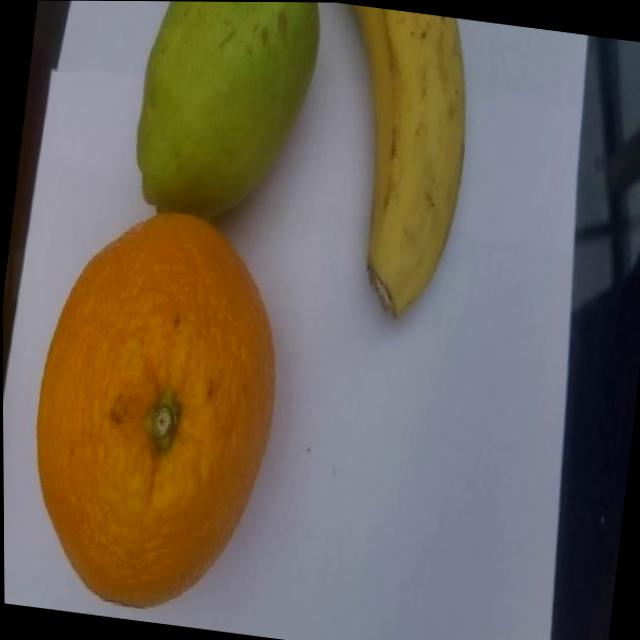Banana: (307, 2, 484, 327)
Orange: (11, 195, 297, 629)
